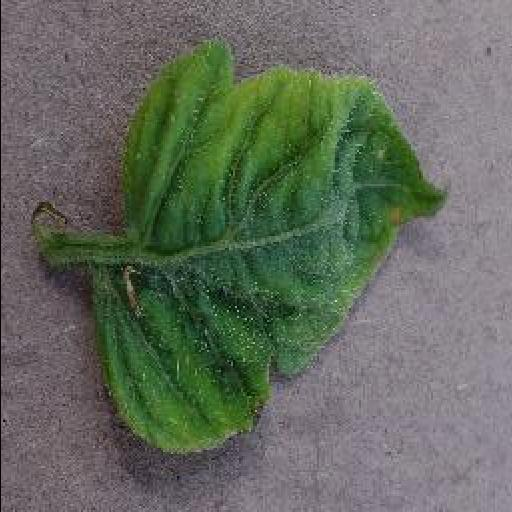disease_tomato: (88, 42, 450, 454)
